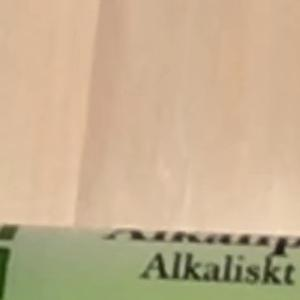keyword: (130, 242, 198, 293)
